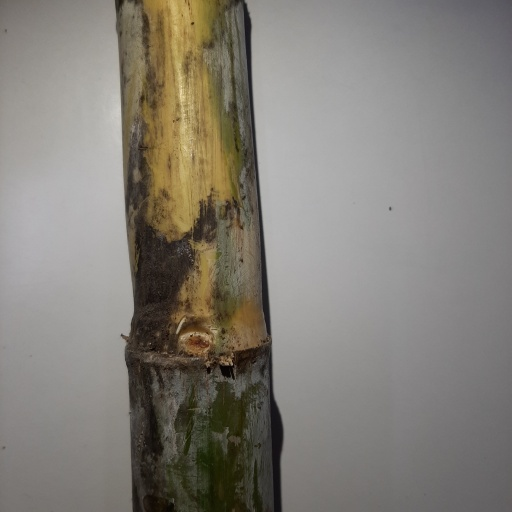Damage_Bud: (179, 328, 212, 356)
